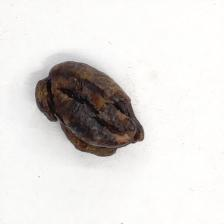NG: (38, 61, 145, 155)
